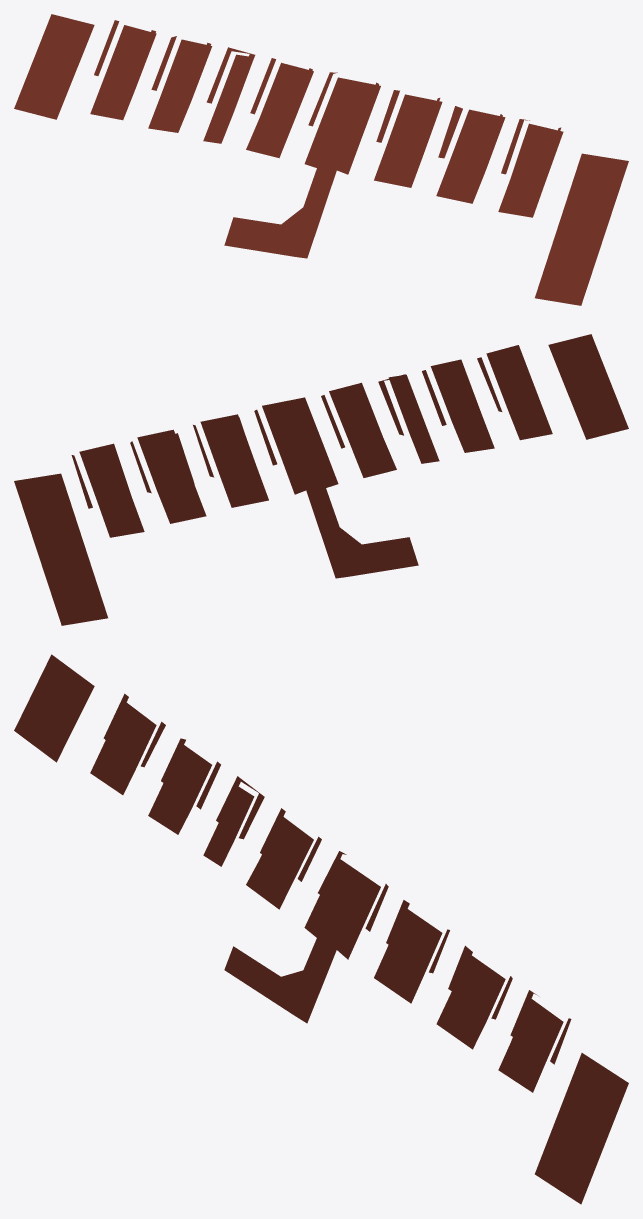
Rendered from Roof_Hini_6.0_Slope_3.0.obj.
3 renders of one model, top to bottom at view 1: azimuth 30°, elevation 25°; view 2: azimuth 150°, elevation 25°; view 3: azimuth 330°, elevation 25°, orthographic.
Parts seen in each view (by area): view 1: 4, 1, 9, 3, 2, 10, 6, 8, 7, 5; view 2: 4, 1, 9, 3, 2, 10, 6, 8, 7, 5; view 3: 4, 1, 9, 3, 2, 10, 6, 8, 7, 5.
Boxes of the visible parts, x1,y1,x2,y2 form: 4: [224, 72, 380, 258]; 1: [535, 153, 628, 305]; 9: [14, 14, 94, 119]; 3: [436, 106, 505, 203]; 2: [374, 90, 442, 187]; 10: [498, 119, 563, 217]; 6: [246, 58, 313, 158]; 8: [90, 20, 156, 120]; 7: [148, 36, 212, 132]; 5: [203, 47, 255, 143]; 4: [254, 397, 418, 578]; 1: [14, 473, 107, 625]; 9: [548, 334, 628, 439]; 3: [130, 429, 206, 523]; 2: [193, 414, 268, 507]; 10: [71, 443, 144, 537]; 6: [321, 382, 396, 477]; 8: [477, 345, 552, 440]; 7: [422, 359, 494, 452]; 5: [378, 374, 439, 463]; 4: [224, 851, 388, 1023]; 1: [535, 1053, 628, 1204]; 9: [14, 654, 94, 762]; 3: [436, 945, 512, 1049]; 2: [374, 900, 449, 1003]; 10: [498, 990, 571, 1092]; 6: [246, 808, 321, 909]; 8: [90, 693, 165, 794]; 7: [148, 738, 220, 834]; 5: [203, 776, 264, 866].
Bounding box in the file's own units: 135 × 88.5 × 1.92.
